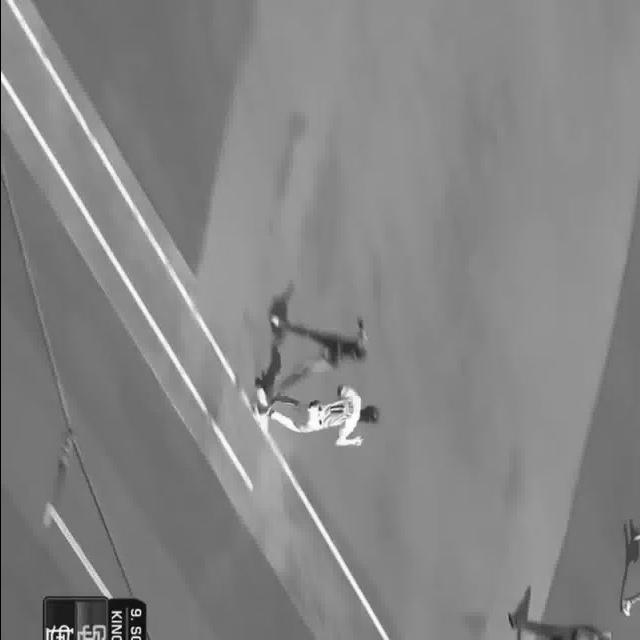base: (252, 384, 268, 432)
shoe: (272, 394, 300, 408), (270, 314, 284, 331), (264, 404, 272, 416)
